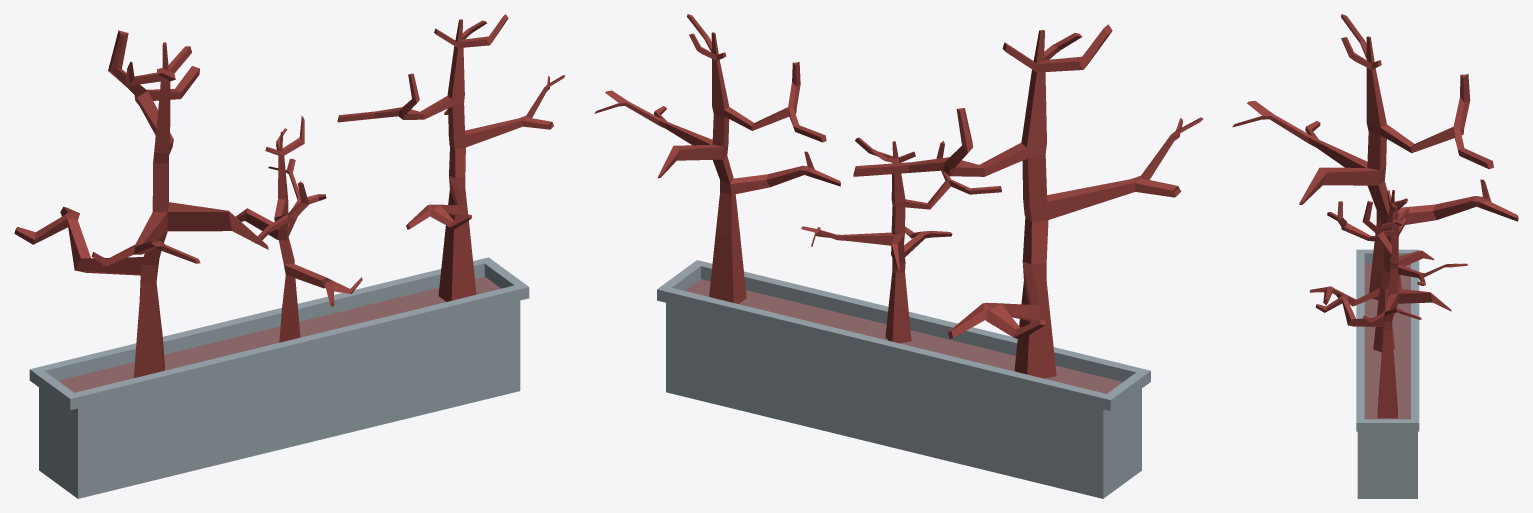
Rendered from DeadPlanter.obj.
3 renders of one model, left to right at view 1: azimuth 30°, elevation 25°; view 2: azimuth 150°, elevation 25°; view 3: azimuth 270°, elevation 25°, orthographic. The views are drawn at different scales.
Parts seen in each view (by area): view 1: DeadPlanter_Cube.004; view 2: DeadPlanter_Cube.004; view 3: DeadPlanter_Cube.004.
Part boxes in pixels (x1,y1,x2,y2): DeadPlanter_Cube.004: (14, 14, 565, 498); DeadPlanter_Cube.004: (594, 14, 1202, 498); DeadPlanter_Cube.004: (1232, 14, 1518, 498).
Size of the model in its own units: 15.52 by 12.2 by 9.46.
